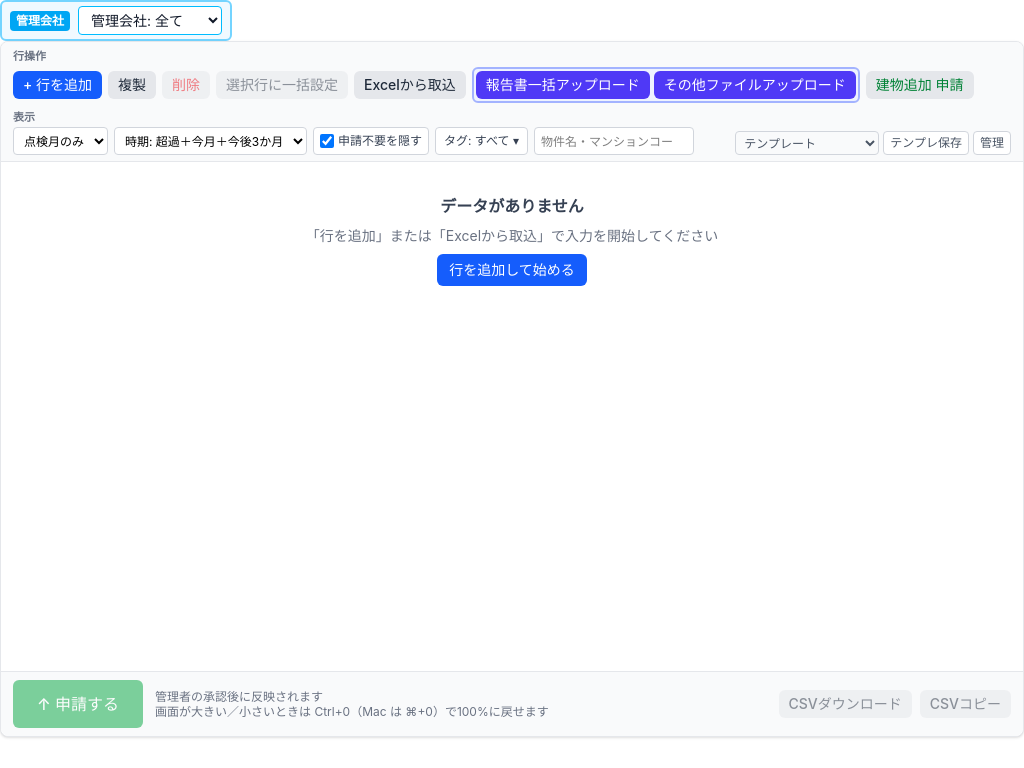
Scenario: BulkEntryPage (v1 js/bulk.js init / adminVendorSelect) › 点検予定の行（保守会社のアカウント。B13・B14） › 申請不要・毎月の点検種別は毎月の行を出し、申請の欄を出さず、超過にしない（修正依頼1025 H4/G4）
The width and height of the screenshot is (1024, 768).
Click the checkbox labelled "申請不要を隠す": [327, 141] box [320, 134, 334, 148]
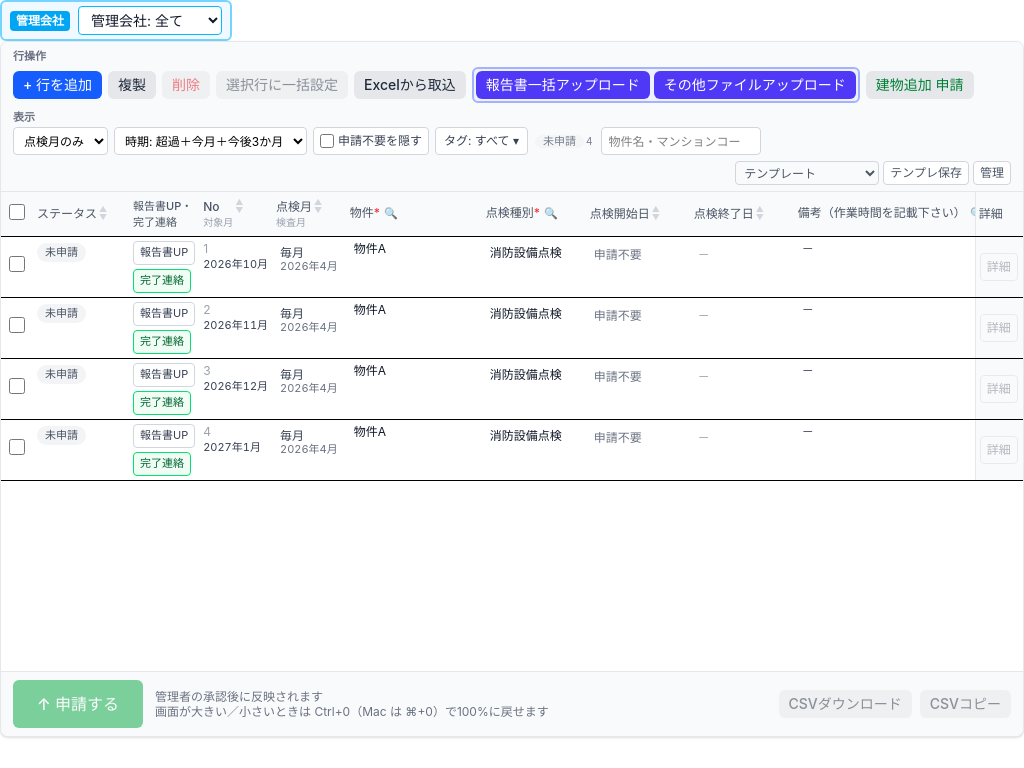
Result: the elements with test id "target-month" read "2026年10月", "2026年11月", "2026年12月", "2027年1月", in this order at [203, 256, 268, 271]; [203, 318, 268, 332]; [203, 378, 268, 393]; [203, 440, 268, 454]
Result: the text with test id "inspection-months" next to "2026年10月" reads "毎月" at [280, 244, 304, 260]
Result: the text "申請不要" in the row of "2026年10月" is shown at [594, 246, 642, 262]
# 過去の月（すべて）は報告書が無ければ「報告書未提出」
Select "時期: すべて" in the dropdown named "時期": [210, 141] box [114, 127, 307, 155]
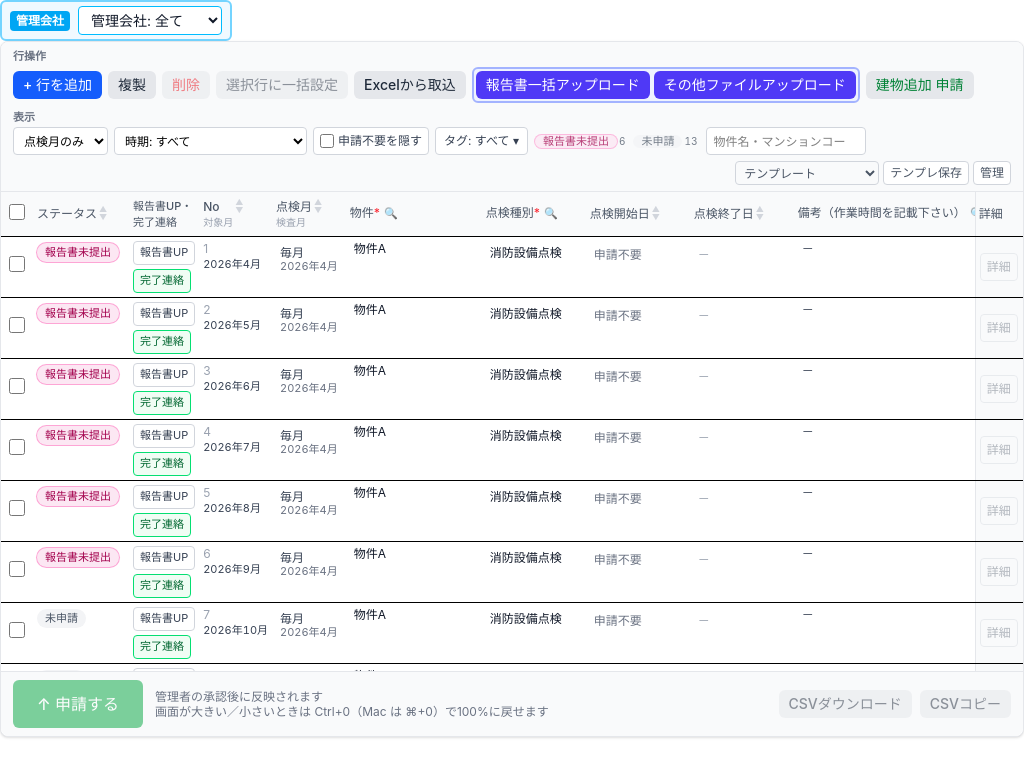
Result: the text "報告書未提出" in the row of "2026年5月" is shown at [45, 306, 111, 320]
